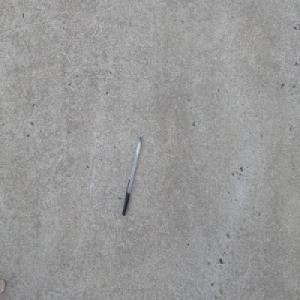Pen: (121, 135, 142, 216)
